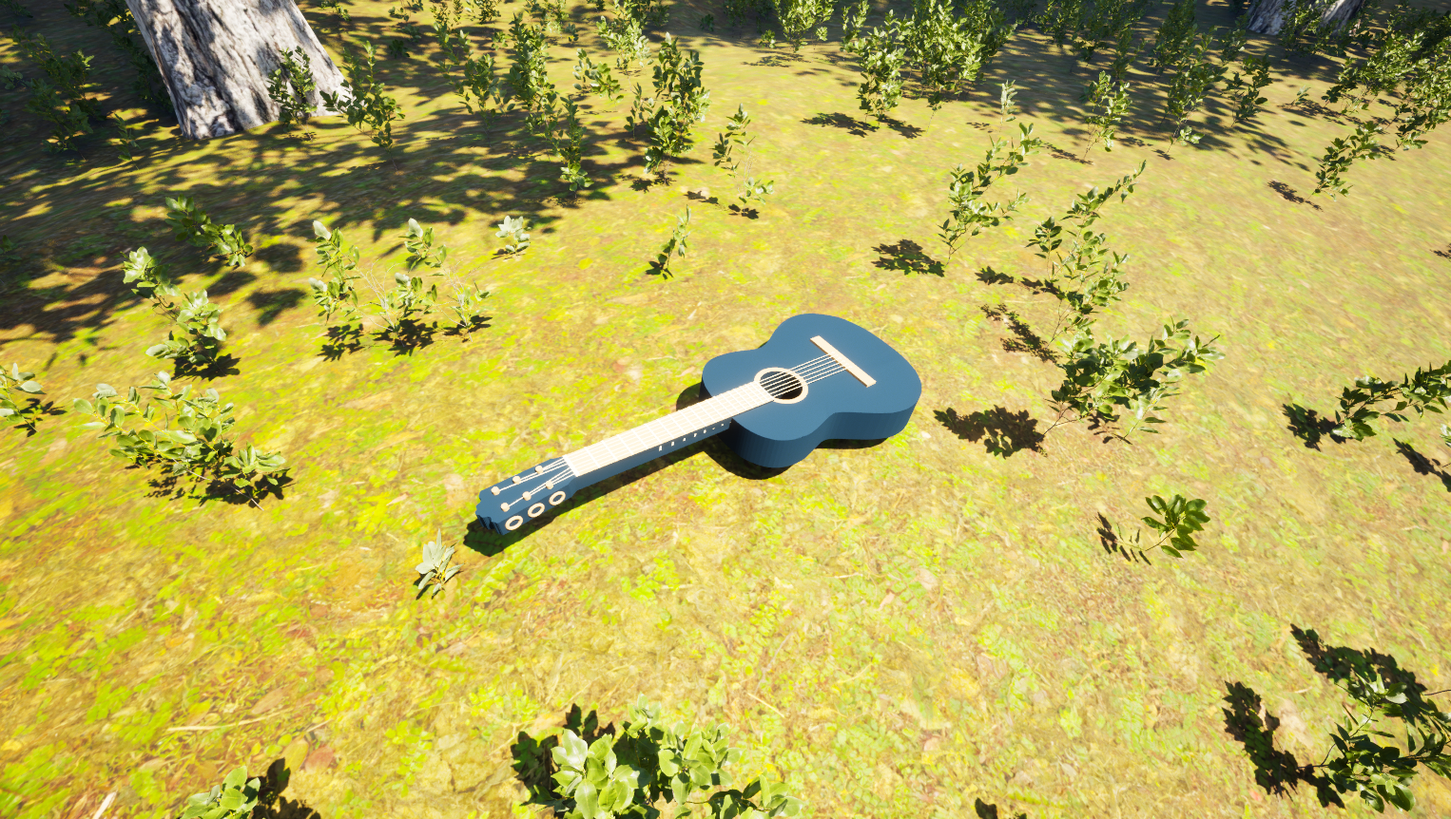Guitar: (425, 243, 972, 668)
